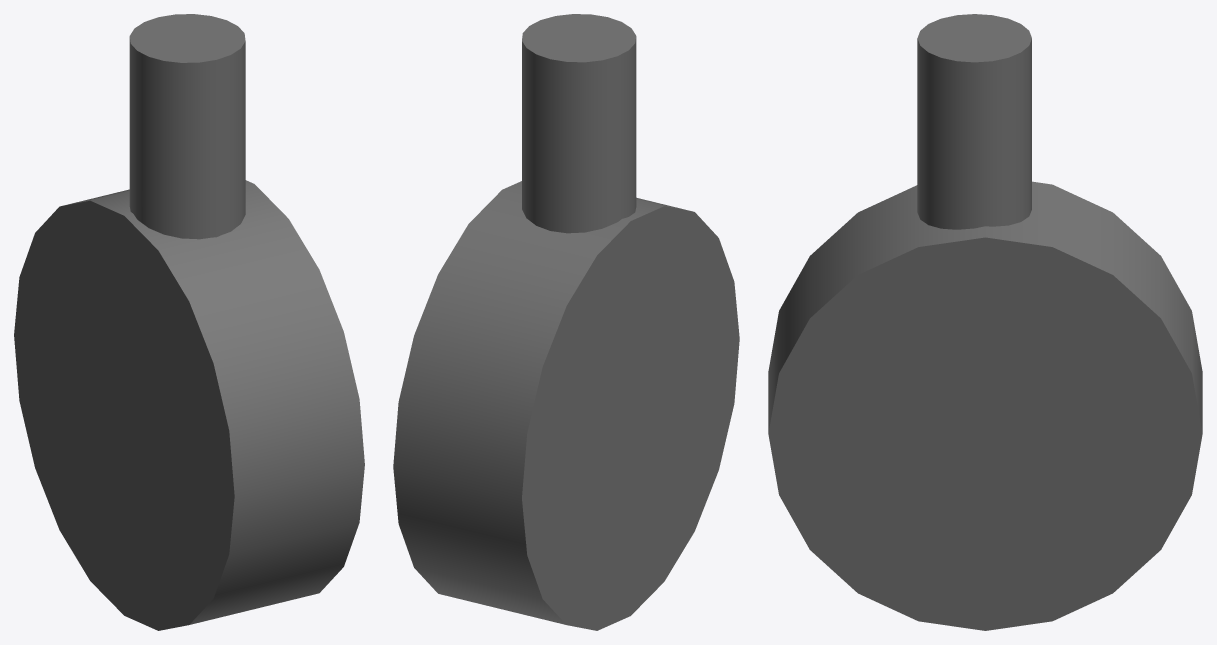
Rendered from RimJointPart.fbx.
The picture shows the model from 3 angles, left to right: view 1: azimuth 30°, elevation 25°; view 2: azimuth 150°, elevation 25°; view 3: azimuth 270°, elevation 25°; orthographic projection.
Parts seen in each view (by area): view 1: Jant_eklem; view 2: Jant_eklem; view 3: Jant_eklem.
Part boxes in pixels (<box>): Jant_eklem: <box>14,14,364,630</box>; Jant_eklem: <box>393,14,739,630</box>; Jant_eklem: <box>768,14,1202,630</box>.
Bounding box in the file's own units: 1.06 × 4.4 × 3.11.
